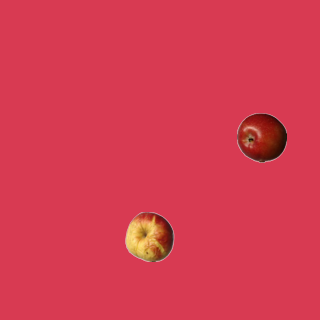Apple Braeburn: (236, 112, 286, 162)
Apple Red Yellow 1: (124, 211, 174, 261)
